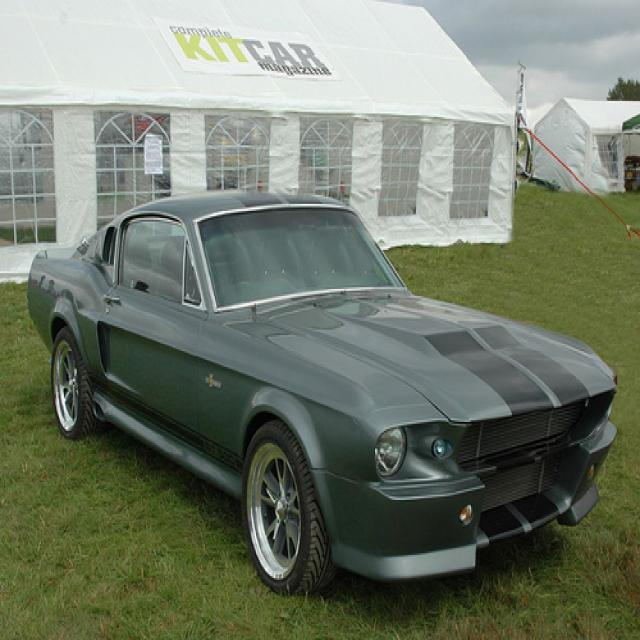Car: (29, 186, 626, 599)
